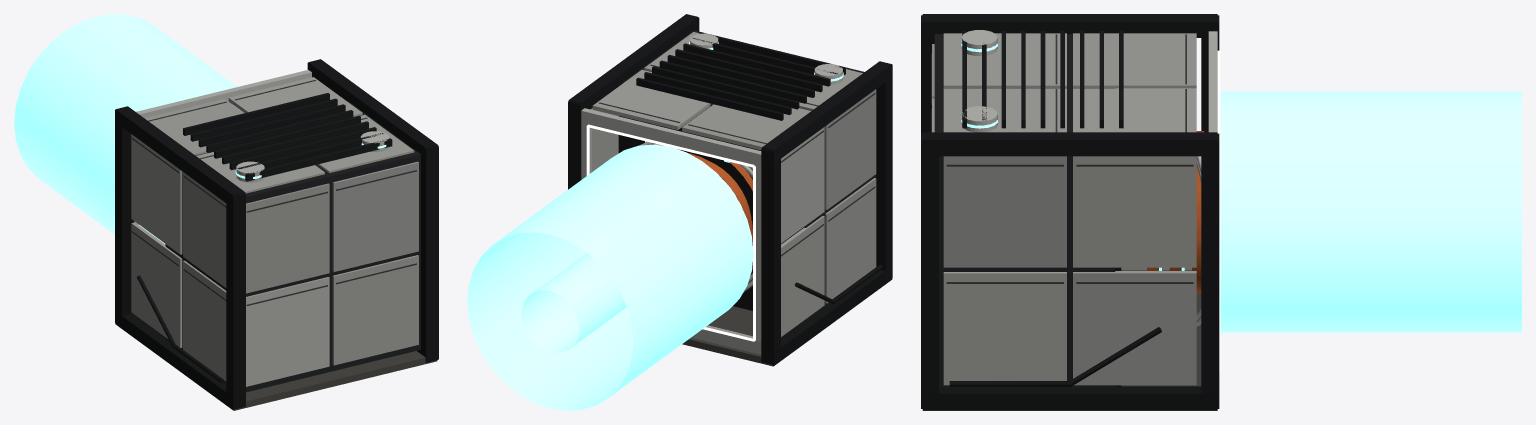
Rendered from zeropoint_projector.glb.
3 views of the same model, side by side, from view 1: azimuth 30°, elevation 25°; view 2: azimuth 150°, elevation 25°; view 3: azimuth 270°, elevation 25° (orthographic). The views are drawn at different scales.
Parts seen in each view (by area): view 1: Frame, Field; view 2: Frame, Field; view 3: Frame, Field.
Part boxes in pixels (box(x1,y1,x2,y2)): Frame: box(115, 59, 438, 410); Field: box(14, 14, 243, 243); Frame: box(568, 14, 892, 366); Field: box(467, 144, 753, 410); Frame: box(921, 14, 1220, 410); Field: box(1220, 91, 1521, 332).
Bounding box in the file's own units: 2.01 × 2 × 3.99.
